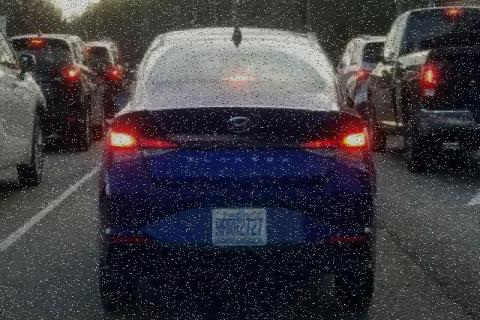LicensePlate: (210, 206, 266, 246)
